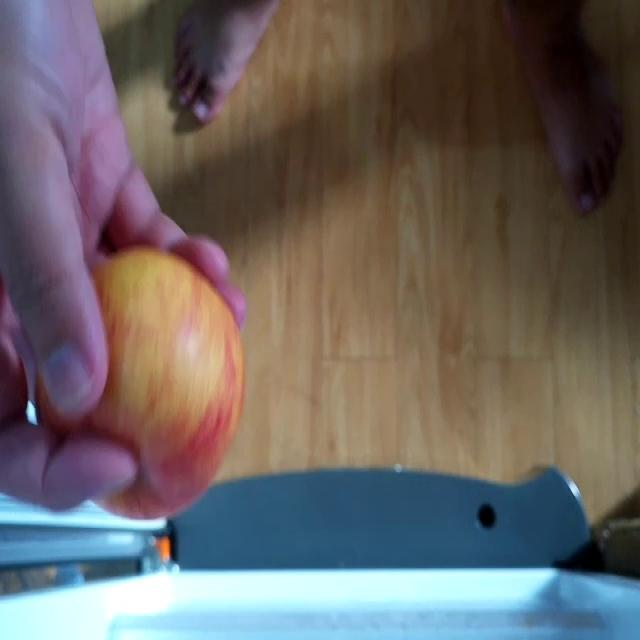apple: (64, 242, 243, 506)
